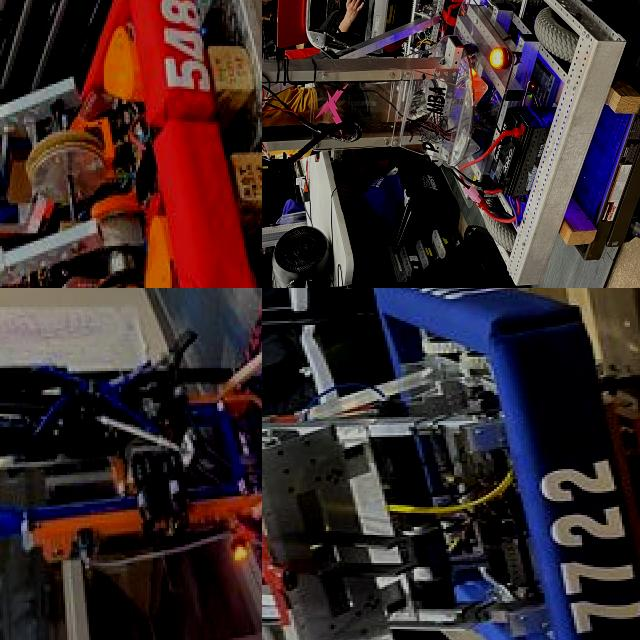FRC-Robots: (262, 288, 640, 640), (262, 0, 640, 288), (0, 288, 262, 640), (0, 0, 248, 288)
